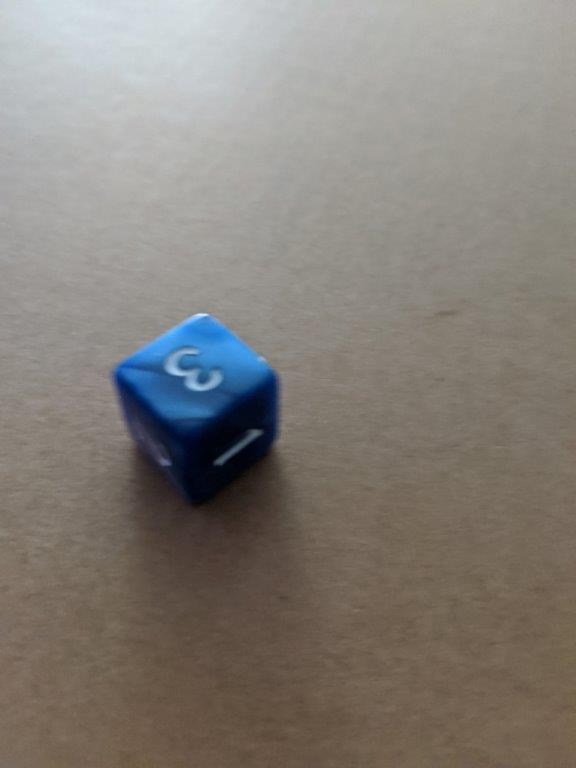d6-3: (109, 310, 285, 513)
